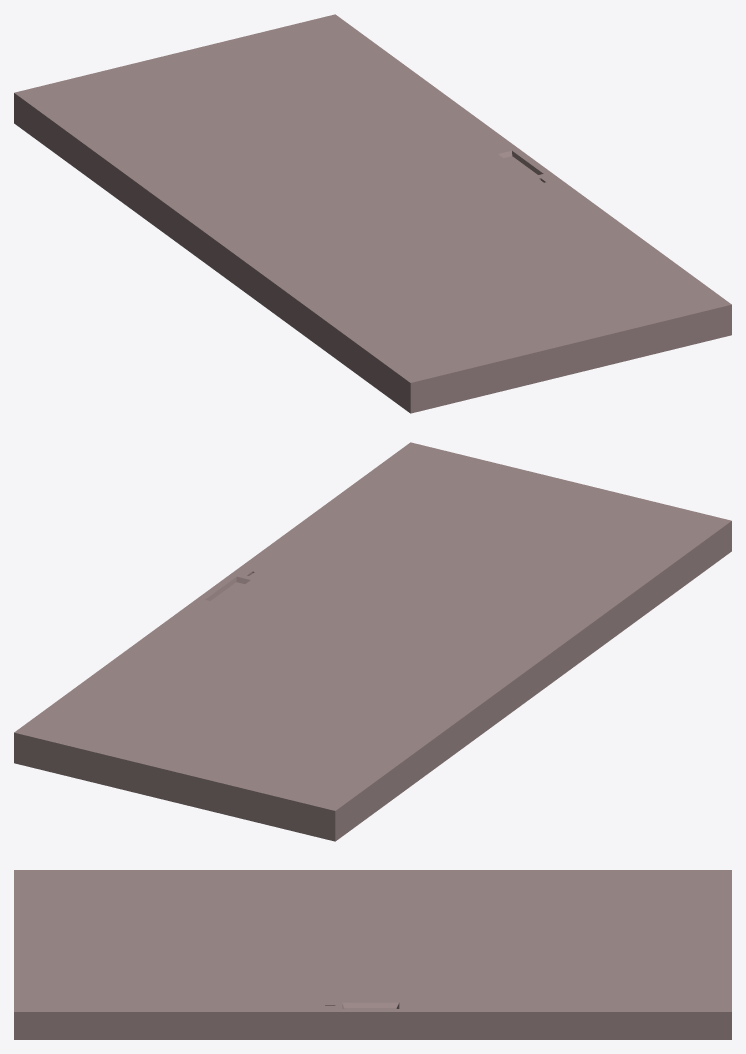
Rendered from doorBase.fbx.
3 views of the same model, one above another, from view 1: azimuth 30°, elevation 25°; view 2: azimuth 150°, elevation 25°; view 3: azimuth 270°, elevation 25° (orthographic). The views are drawn at different scales.
Visible parts, largest first — view 1: Cube; view 2: Cube; view 3: Cube.
Boxes of the visible parts, x1,y1,x2,y2 form: Cube: (14,14,731,413); Cube: (14,442,731,841); Cube: (14,870,731,1039).
Size of the model in its own units: 1.05 by 0.0957 by 2.24.
